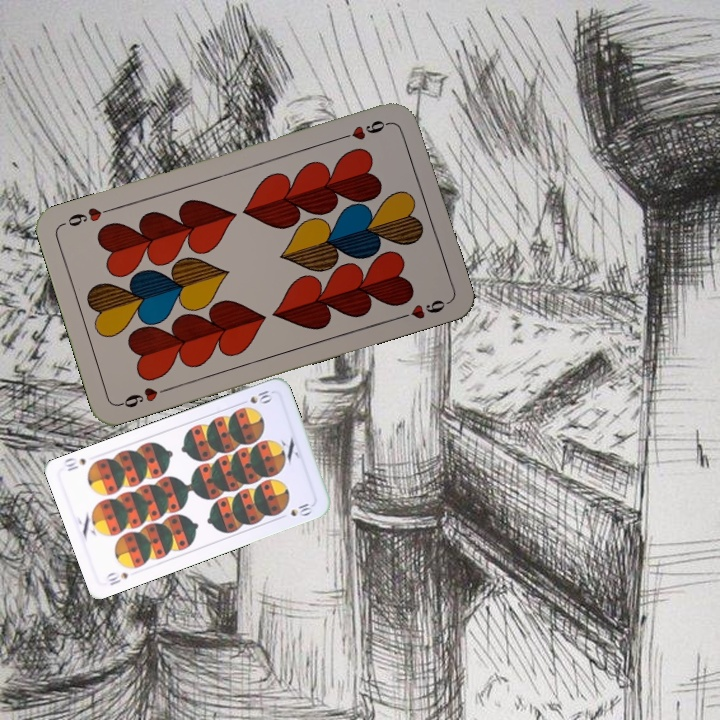H9: (115, 383, 173, 410), (336, 116, 394, 143)
S10: (236, 386, 275, 407), (102, 568, 131, 588)
